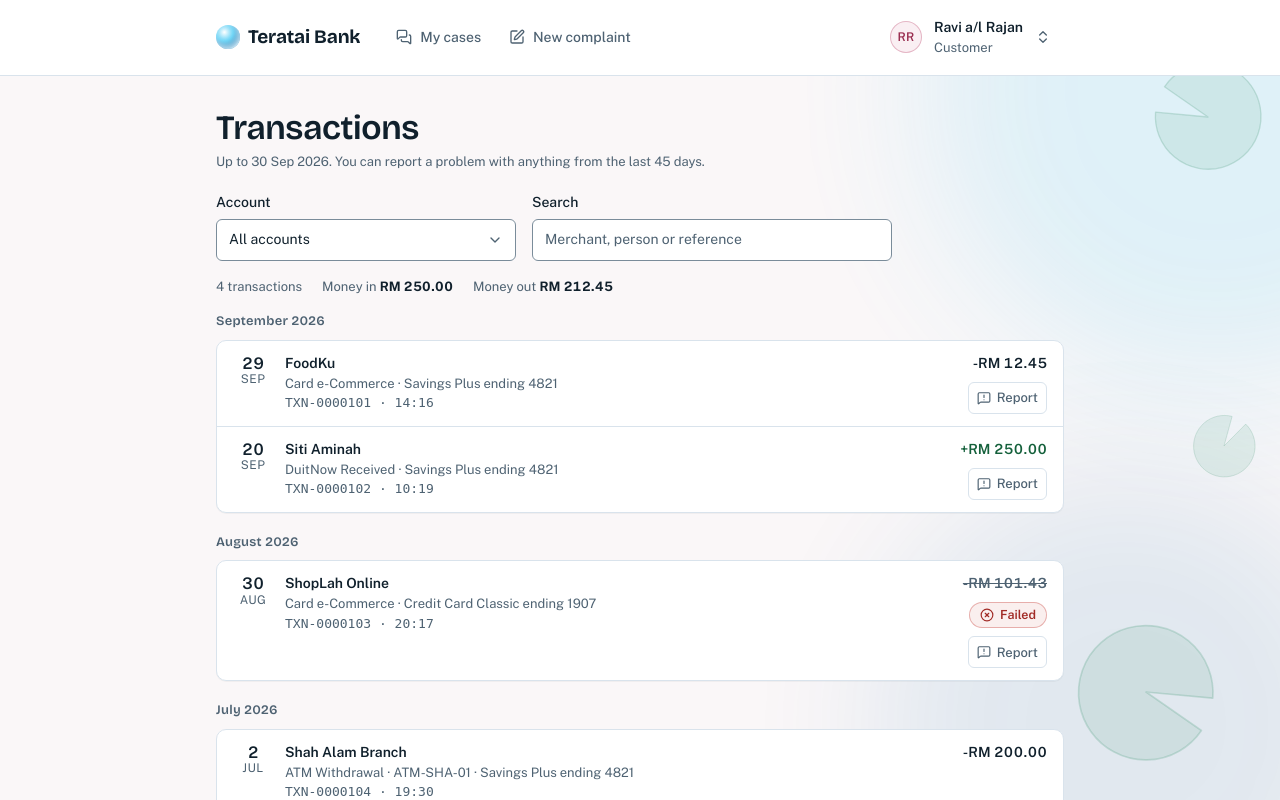
it: Transactions › finds a transaction by its reference
Type "txn-0000102" into the search field labelled "Search" at (712, 240), box [532,219,892,261]
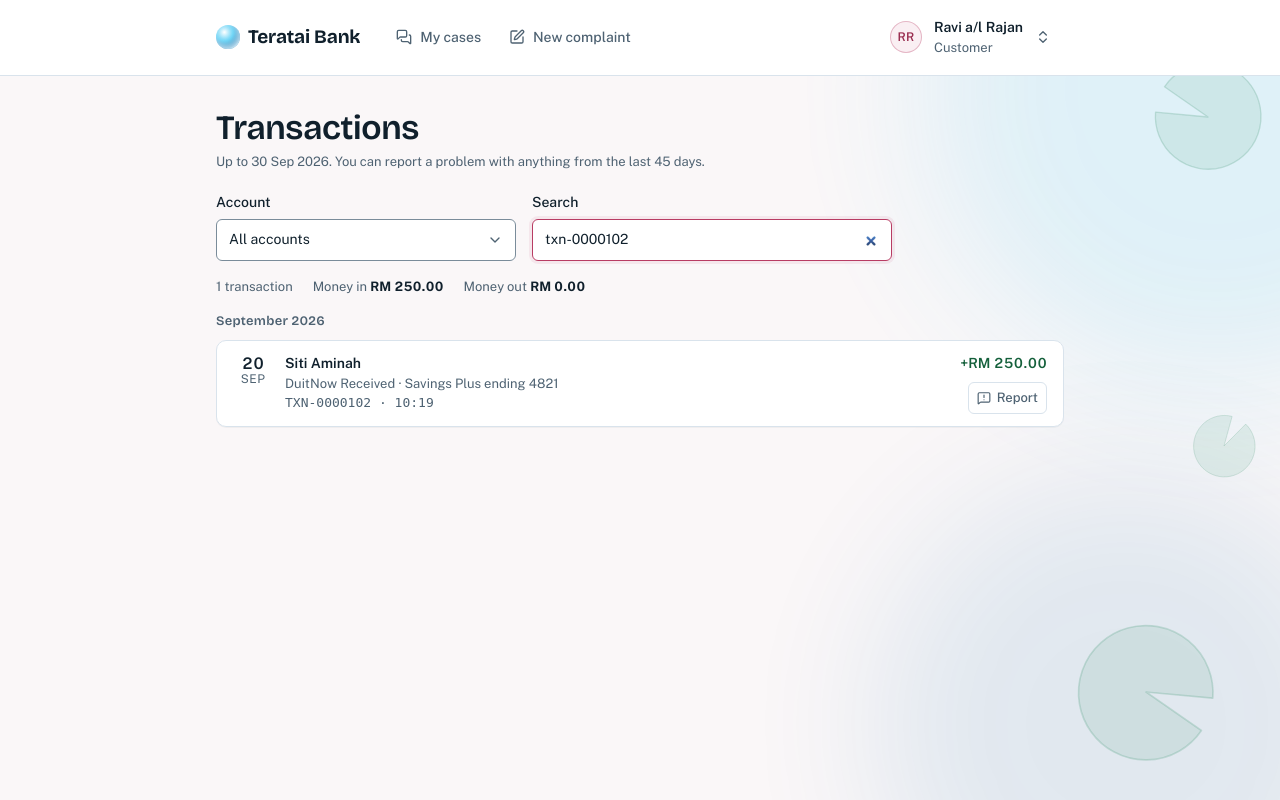
Expected: the text "Siti Aminah" is shown, [285,355,361,371]
Expected: the text "FoodKu" is gone
